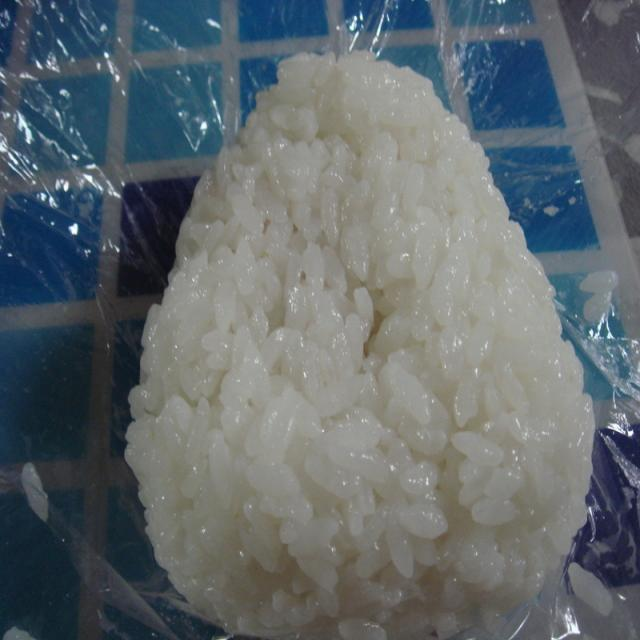米饭主食: (114, 22, 596, 632)
